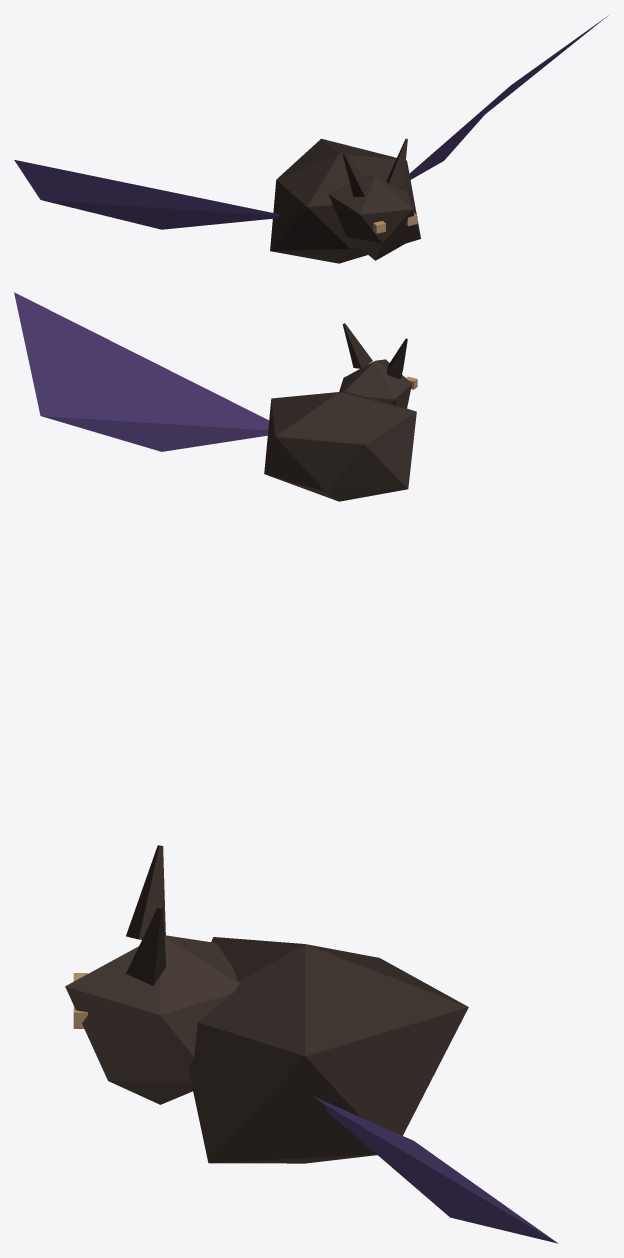
The model's file is cave_bat.glb.
3 views of the same model, one above another, from view 1: azimuth 30°, elevation 25°; view 2: azimuth 150°, elevation 25°; view 3: azimuth 270°, elevation 25° (orthographic). The views are drawn at different scales.
Parts seen in each view (by area): view 1: cave_bat; view 2: cave_bat; view 3: cave_bat.
Boxes of the visible parts, x1,y1,x2,y2 form: cave_bat: [14, 15, 608, 263]; cave_bat: [14, 292, 417, 501]; cave_bat: [65, 845, 557, 1243].
Bounding box in the file's own units: 1.9 × 0.4775 × 0.6816.
Materials: 1 (1 with a texture image).
